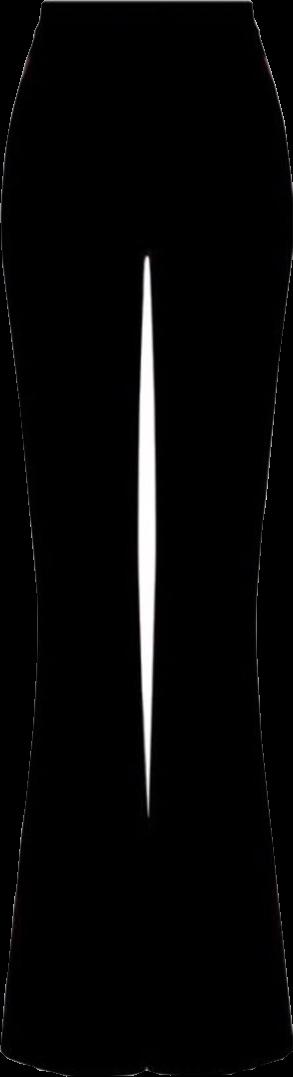Hemline: (142, 1046, 292, 1076), (0, 1046, 150, 1076)
Pantleg: (1, 1, 152, 1076), (144, 2, 292, 1074)
Waistline: (38, 0, 254, 15)
